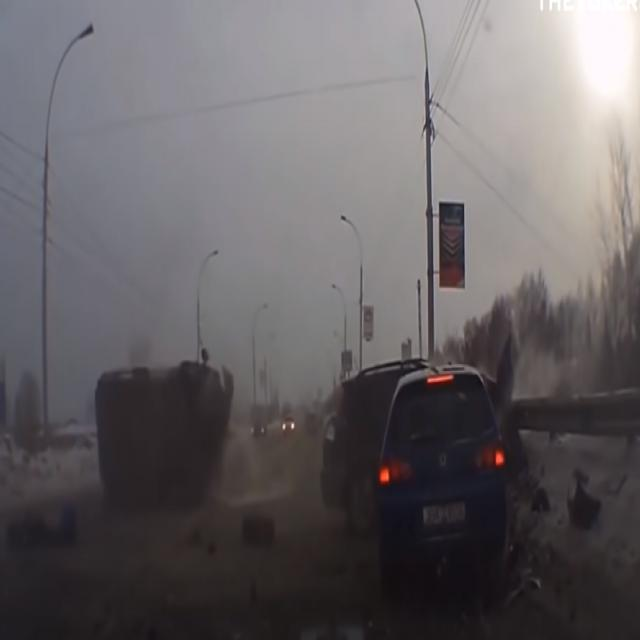accident: (312, 344, 548, 598)
